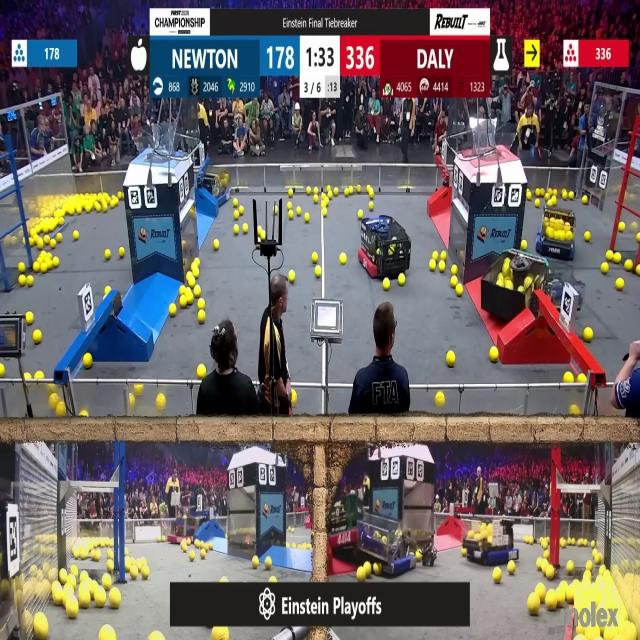ball_airborne: (199, 106, 207, 119)
ball_ground: (528, 595, 540, 615), (66, 600, 78, 618), (109, 590, 120, 609), (100, 626, 114, 640), (95, 591, 106, 608), (79, 593, 90, 608), (545, 596, 555, 611), (57, 404, 67, 418), (438, 392, 447, 407), (158, 394, 167, 409), (490, 348, 499, 362), (585, 327, 594, 341), (447, 352, 456, 366), (102, 574, 111, 588), (494, 568, 502, 583), (83, 353, 91, 368), (566, 590, 574, 604), (198, 363, 206, 376), (544, 566, 552, 579), (364, 563, 371, 577), (34, 332, 42, 344), (141, 567, 149, 579), (170, 305, 178, 317), (258, 230, 266, 242), (373, 564, 381, 576), (536, 586, 544, 598), (357, 568, 365, 580), (27, 312, 34, 325), (199, 311, 206, 324), (564, 373, 573, 383), (192, 286, 200, 297), (570, 407, 578, 418), (150, 632, 161, 640), (618, 278, 625, 290), (107, 560, 114, 572), (132, 567, 139, 579), (507, 562, 514, 574), (291, 390, 297, 404), (61, 570, 68, 582), (577, 374, 585, 384), (626, 262, 634, 272), (614, 252, 622, 262), (198, 300, 206, 310), (79, 571, 87, 581), (456, 285, 463, 296), (602, 264, 609, 275), (397, 275, 404, 286), (439, 263, 446, 274), (180, 295, 187, 306), (384, 278, 390, 290), (267, 558, 273, 570), (567, 561, 573, 573), (70, 566, 78, 575), (27, 276, 34, 286), (18, 276, 25, 286), (186, 294, 193, 304), (54, 257, 61, 267), (123, 562, 130, 572), (185, 286, 192, 296), (341, 253, 347, 264), (252, 557, 258, 568), (104, 249, 110, 260), (316, 267, 322, 278), (18, 264, 24, 275), (452, 276, 458, 287), (213, 237, 219, 248), (536, 559, 542, 570), (40, 265, 47, 274), (440, 251, 447, 260), (191, 270, 198, 279), (188, 552, 195, 561), (59, 216, 66, 225), (452, 266, 458, 276), (585, 233, 591, 243), (0, 364, 5, 376), (243, 223, 249, 233), (288, 272, 294, 282), (522, 240, 528, 250), (429, 262, 435, 272), (34, 264, 40, 274), (185, 272, 191, 282), (234, 210, 240, 220), (416, 552, 422, 562), (606, 251, 612, 261), (108, 550, 114, 560), (271, 575, 278, 583), (49, 240, 56, 248), (102, 204, 109, 212), (313, 252, 318, 263), (322, 208, 328, 217), (357, 210, 363, 219), (588, 561, 594, 570), (57, 235, 63, 244), (568, 190, 574, 199), (583, 197, 589, 206), (111, 199, 117, 208), (34, 369, 40, 378), (34, 238, 40, 247), (76, 206, 82, 215), (560, 538, 566, 547), (87, 204, 93, 213), (118, 248, 123, 258), (235, 224, 240, 234), (288, 210, 293, 220), (326, 200, 331, 210), (620, 222, 626, 230), (180, 286, 186, 294), (534, 200, 540, 208), (526, 190, 532, 198), (632, 222, 638, 230), (194, 540, 200, 548), (460, 550, 466, 558), (524, 535, 530, 543), (43, 237, 49, 245), (546, 200, 552, 208), (186, 538, 192, 546), (432, 251, 437, 260), (105, 286, 110, 295), (97, 204, 102, 213), (636, 265, 640, 276), (80, 412, 87, 418), (321, 201, 327, 208), (182, 543, 188, 550), (117, 191, 123, 198), (69, 209, 75, 216), (335, 187, 341, 194), (368, 202, 372, 212), (543, 552, 548, 560), (314, 194, 319, 202), (307, 186, 312, 194), (193, 257, 198, 265), (287, 202, 292, 210), (563, 190, 568, 198), (345, 188, 350, 196), (123, 550, 128, 558), (209, 541, 214, 549), (544, 192, 549, 200), (306, 213, 310, 222), (202, 551, 206, 560), (220, 576, 226, 582), (155, 536, 161, 542), (275, 207, 280, 214), (535, 188, 540, 195), (314, 187, 319, 194), (356, 185, 361, 192), (74, 233, 78, 241), (636, 235, 640, 243), (234, 200, 238, 208), (368, 190, 372, 198), (240, 207, 244, 215), (296, 208, 300, 215), (163, 535, 167, 542), (288, 189, 292, 196), (328, 190, 332, 197)
goal: (466, 122, 520, 159), (130, 130, 188, 160)
robot_blue: (357, 518, 415, 580), (462, 514, 516, 566), (538, 206, 576, 262), (197, 166, 231, 207)
robot_red: (309, 492, 363, 571), (481, 256, 530, 325), (359, 218, 412, 279), (170, 516, 197, 544)
